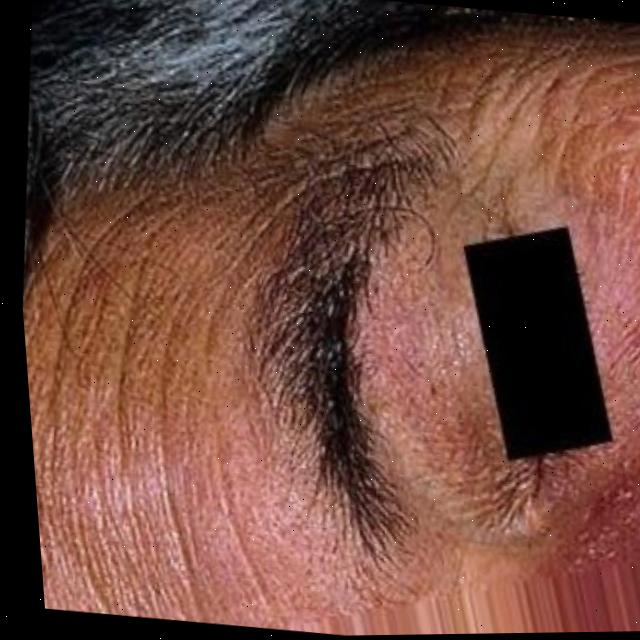Rosacea: (555, 76, 640, 425)
